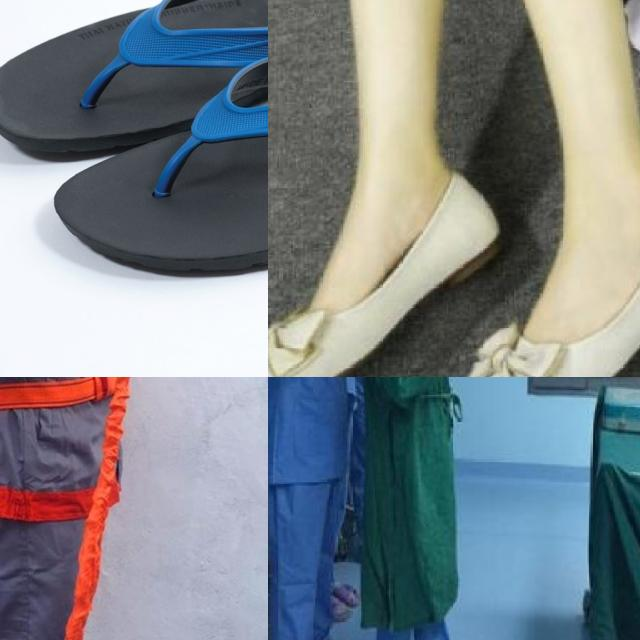Harness: (0, 377, 140, 593)
Sandals: (0, 0, 268, 278), (268, 135, 514, 377), (450, 132, 640, 377)
person: (366, 377, 503, 640), (268, 377, 356, 640)
